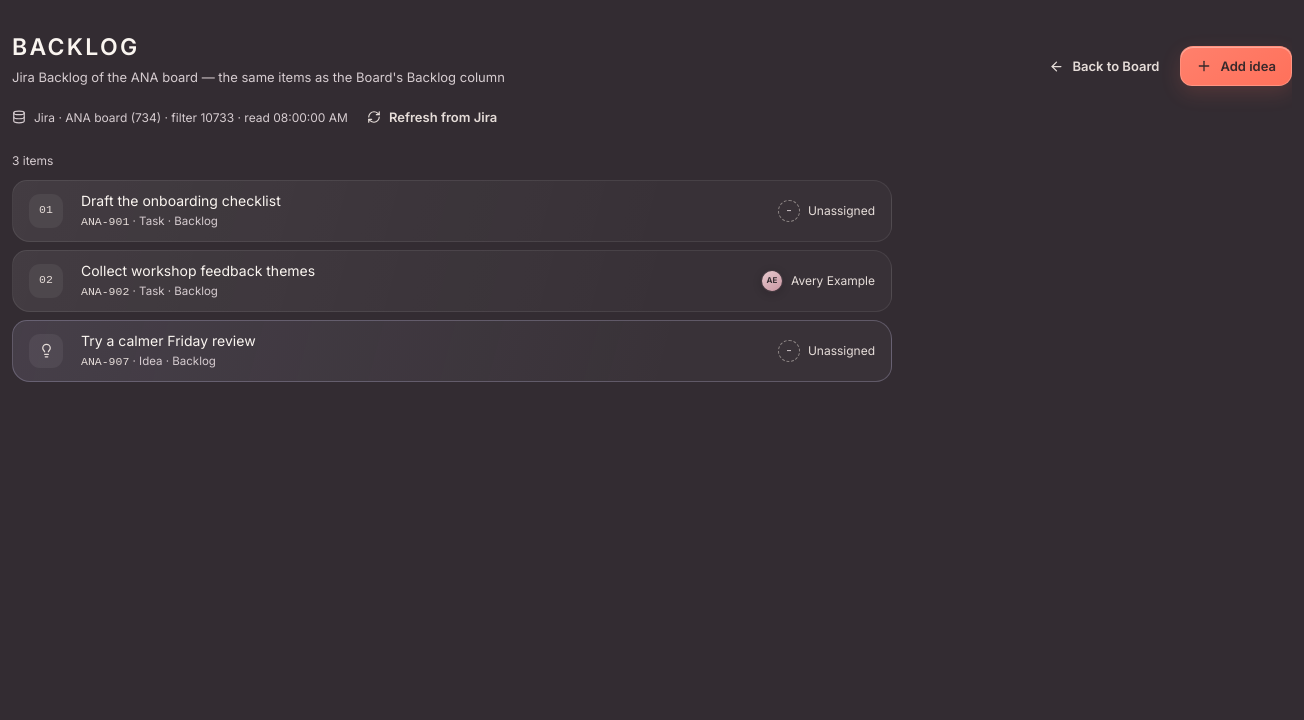
Test: Backlog — same Jira items, Add idea through Jira › shows the durable key only after Jira confirmed the new idea
Click the button with test id "add-idea".
click(1236, 66)  # box [1180,46,1292,86]
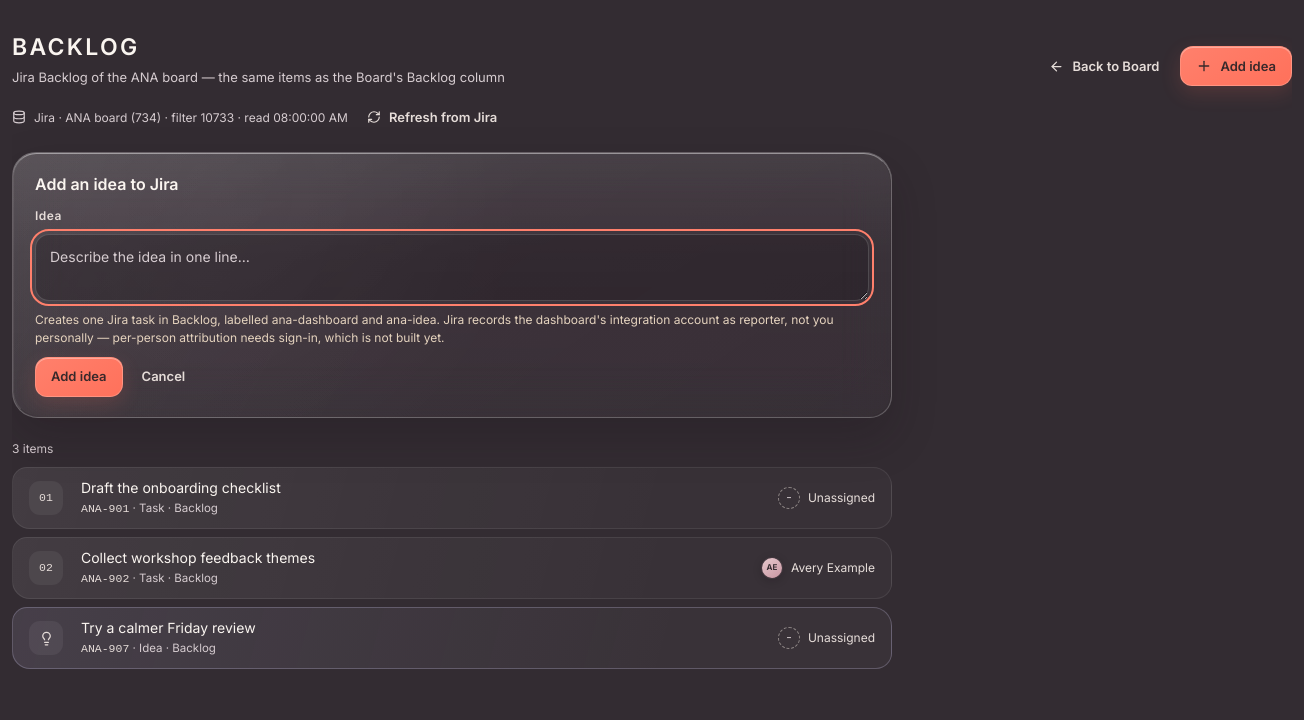
Type "Try a shared weekly review" into the text box with test id "idea-input".
click(452, 267); type("Try a shared weekly review")  # box [35,234,869,301]
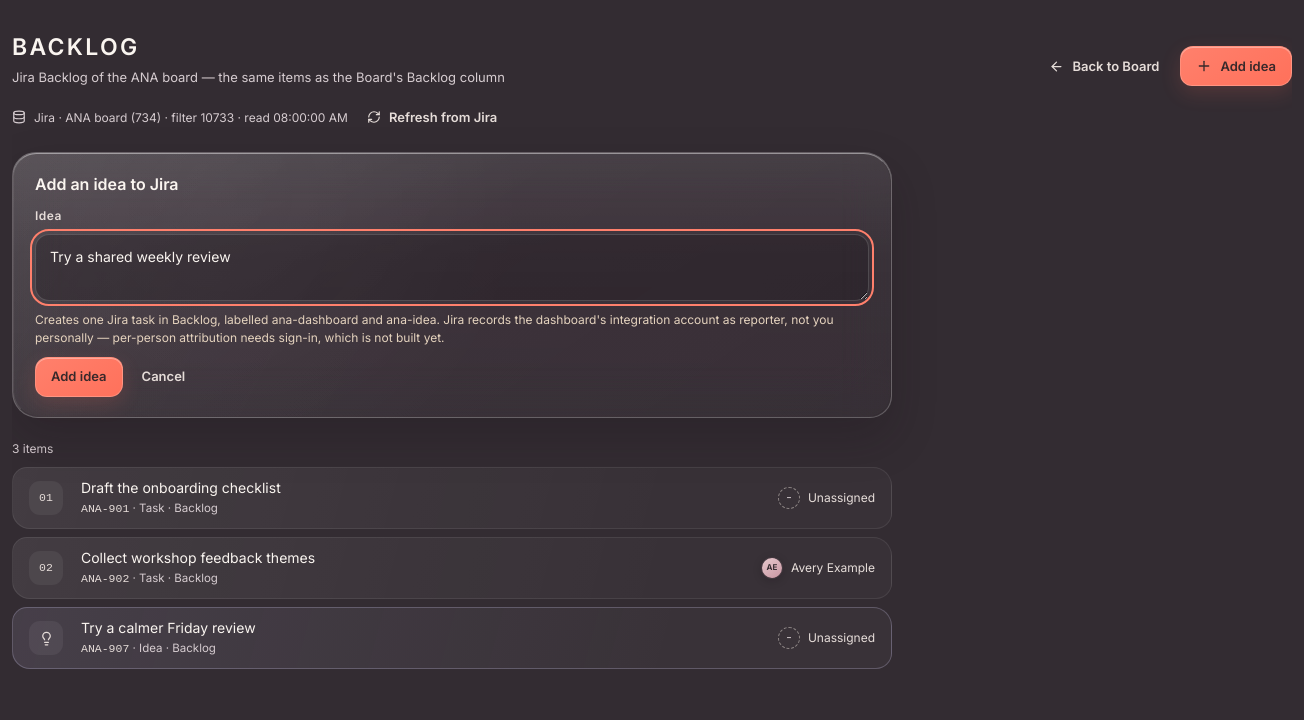
Click the button with test id "idea-submit".
click(79, 377)  # box [35,357,123,397]
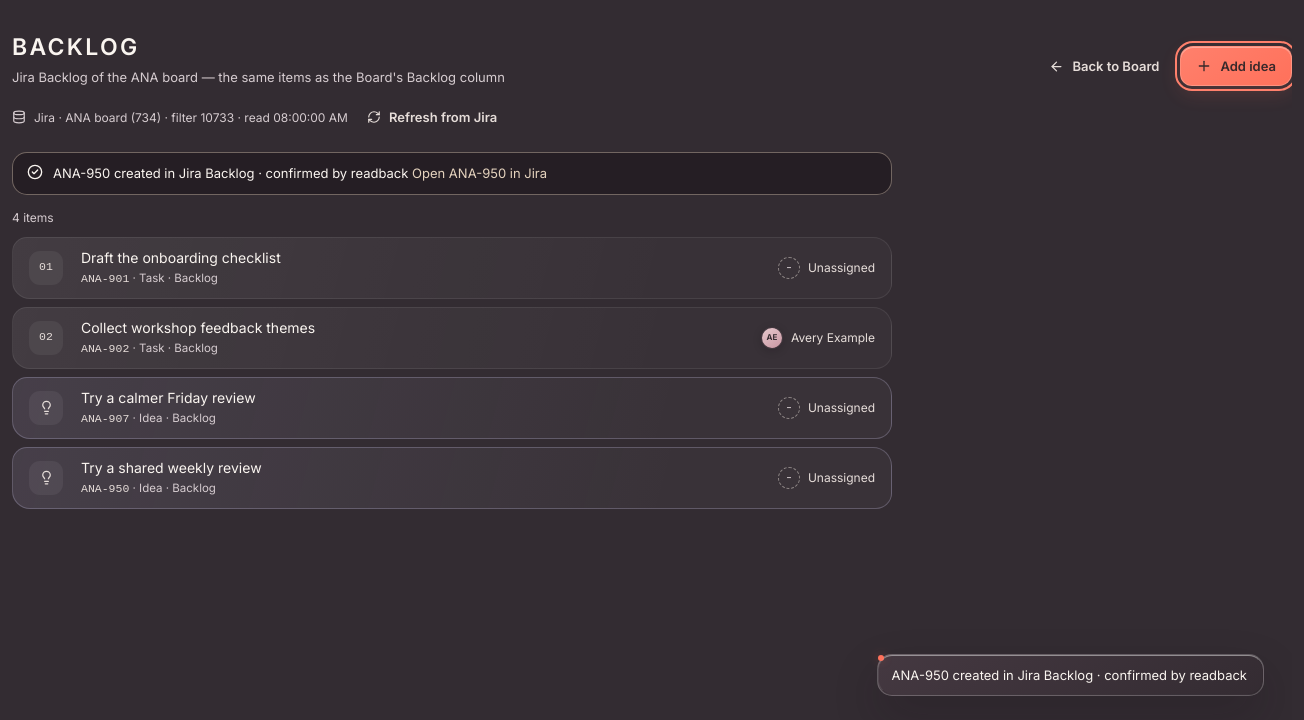
Check: the message with test id "idea-created" shows "ANA-950 created in Jira Backlog · confirmed by readback", box [53,165,408,181]
